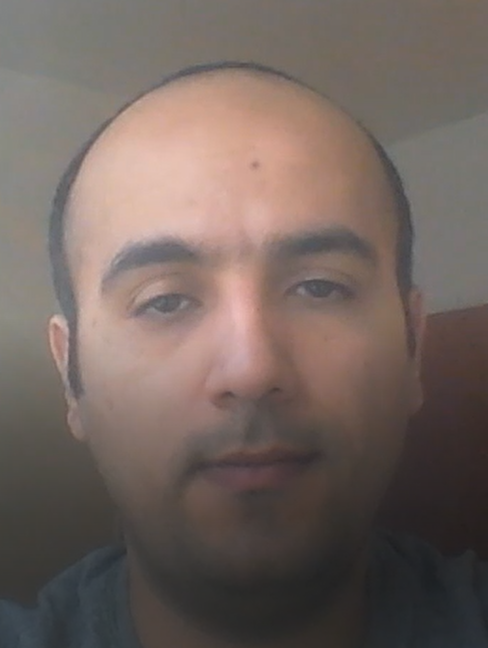Not Sleeping: (101, 227, 384, 349)
